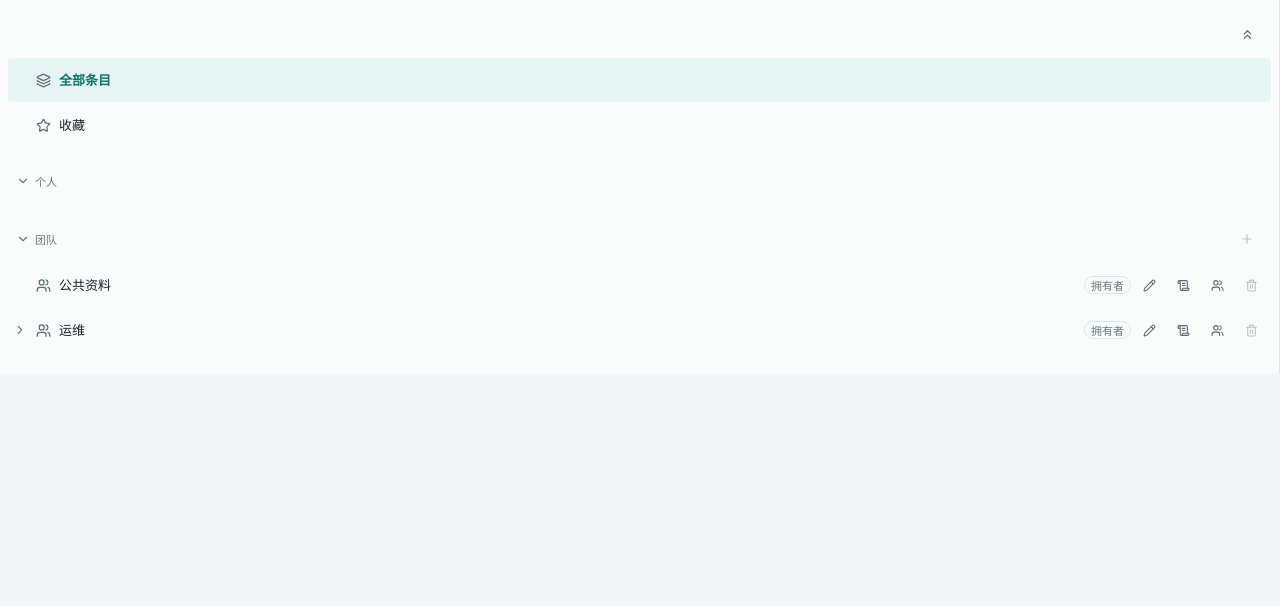
VaultNav › nests visible projects under their root vault and keeps unrelated vaults flat
Check: the button "示例云项目" is not shown
Click the button "运维". click: (44, 330)
box: x1=32 y1=315 x2=1084 y2=345
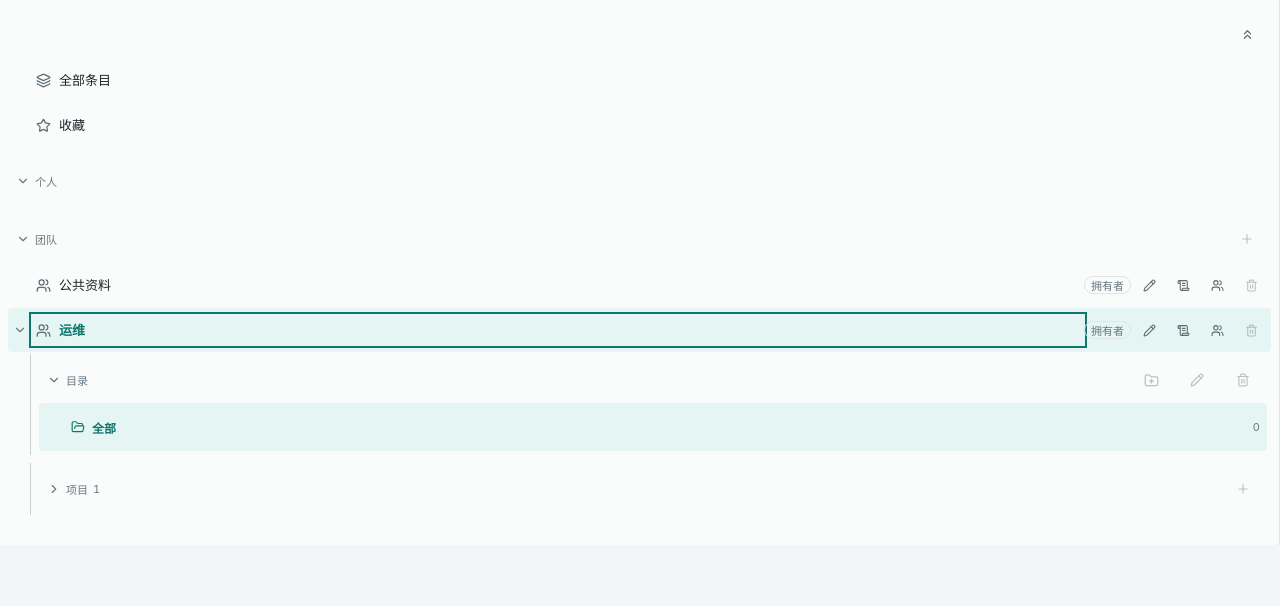
Click the button with aria-label "展开运维的项目". click: (54, 489)
box: x1=47 y1=467 x2=1215 y2=511
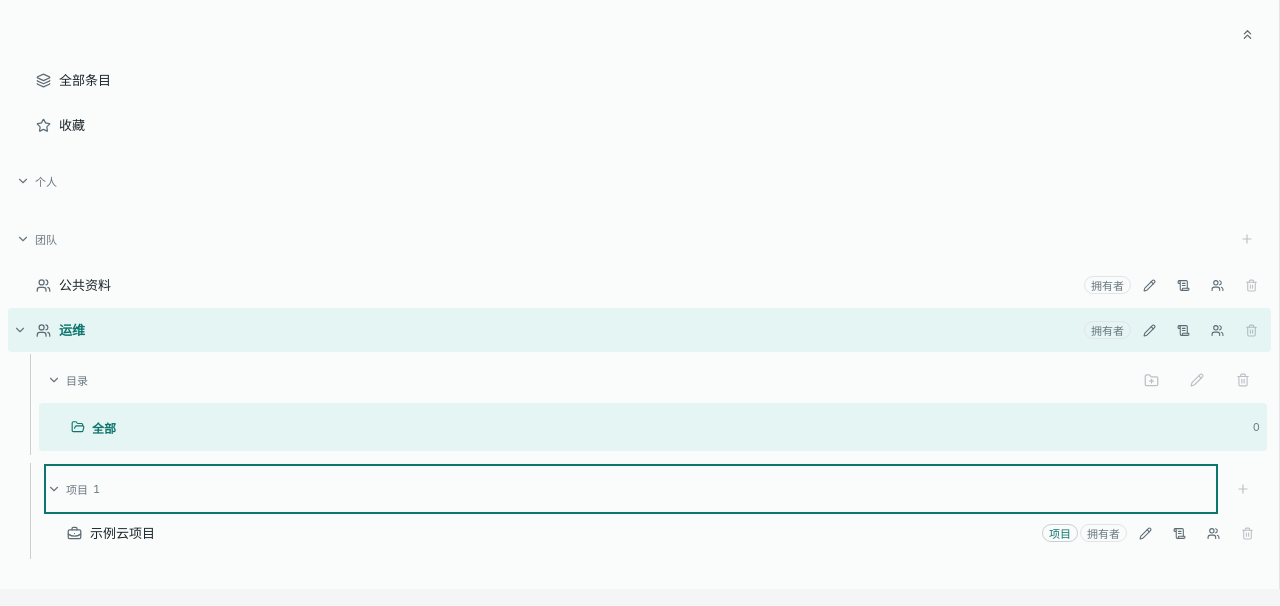
Check: the button "公共资料" is shown, box x1=32 y1=270 x2=1084 y2=300
Check: the text "项目" is shown 2 times, box x1=66 y1=481 x2=88 y2=497; x1=1042 y1=524 x2=1078 y2=542
Check: the button "示例云项目" is shown, box x1=63 y1=518 x2=1042 y2=548
